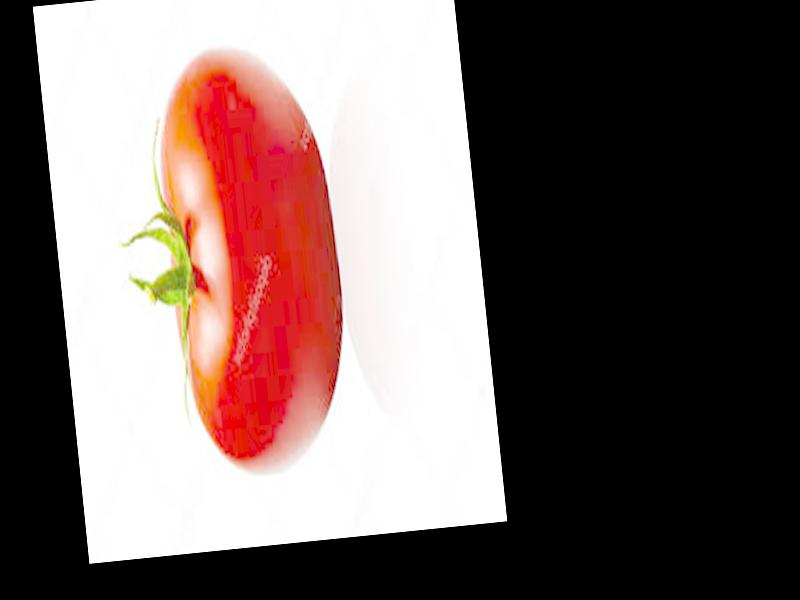Tomato: (149, 36, 358, 482)
